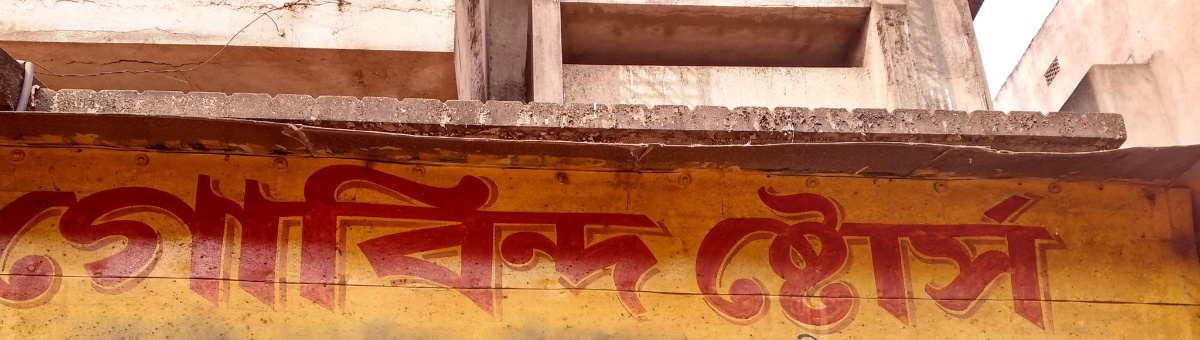text: (17, 142, 32, 334), (33, 142, 48, 334), (49, 142, 64, 334), (65, 142, 80, 334), (81, 142, 96, 334), (97, 142, 112, 334), (113, 142, 128, 334), (129, 142, 144, 334), (145, 142, 160, 334), (161, 142, 176, 334), (177, 142, 192, 334), (193, 142, 208, 334), (209, 142, 224, 334), (225, 142, 240, 334), (241, 142, 256, 334), (257, 142, 272, 334), (273, 142, 288, 334), (289, 142, 304, 334), (305, 142, 320, 334), (321, 142, 336, 334), (337, 142, 352, 334), (353, 142, 368, 334), (369, 142, 384, 334), (385, 142, 400, 334), (401, 142, 416, 334), (417, 142, 432, 334), (433, 142, 448, 334), (449, 142, 464, 334), (465, 142, 480, 334), (481, 142, 496, 334), (497, 142, 512, 334), (513, 142, 528, 334), (529, 142, 544, 334), (545, 142, 560, 334), (561, 142, 576, 334), (577, 142, 592, 334), (593, 142, 608, 334), (609, 142, 624, 334), (625, 142, 640, 334), (641, 142, 656, 334), (657, 142, 672, 334), (673, 142, 688, 334), (2, 142, 16, 334), (721, 185, 736, 337), (737, 185, 752, 337), (753, 185, 768, 337), (769, 185, 784, 337), (785, 185, 800, 337), (801, 185, 816, 337), (817, 185, 832, 337), (833, 185, 848, 337), (849, 185, 864, 337), (865, 185, 880, 337), (881, 185, 896, 337), (897, 185, 912, 337), (913, 185, 928, 337), (929, 185, 944, 337), (945, 185, 960, 337), (961, 185, 976, 337), (977, 185, 992, 337), (993, 185, 1008, 337), (1009, 185, 1024, 337), (1025, 185, 1040, 337), (1041, 185, 1056, 337), (1057, 185, 1072, 337), (709, 185, 720, 337), (689, 142, 692, 334), (1073, 185, 1075, 337)
